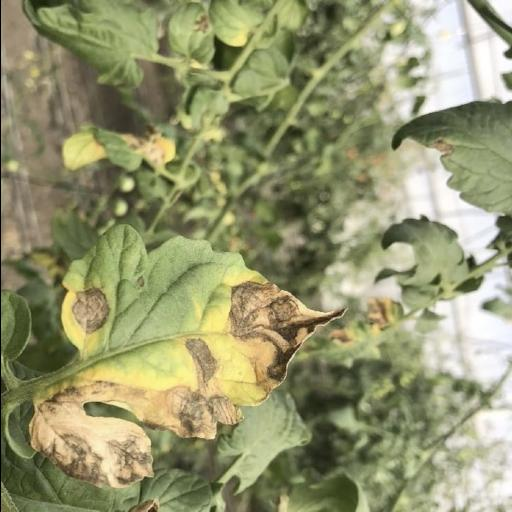Early Blight: (58, 221, 348, 445)
